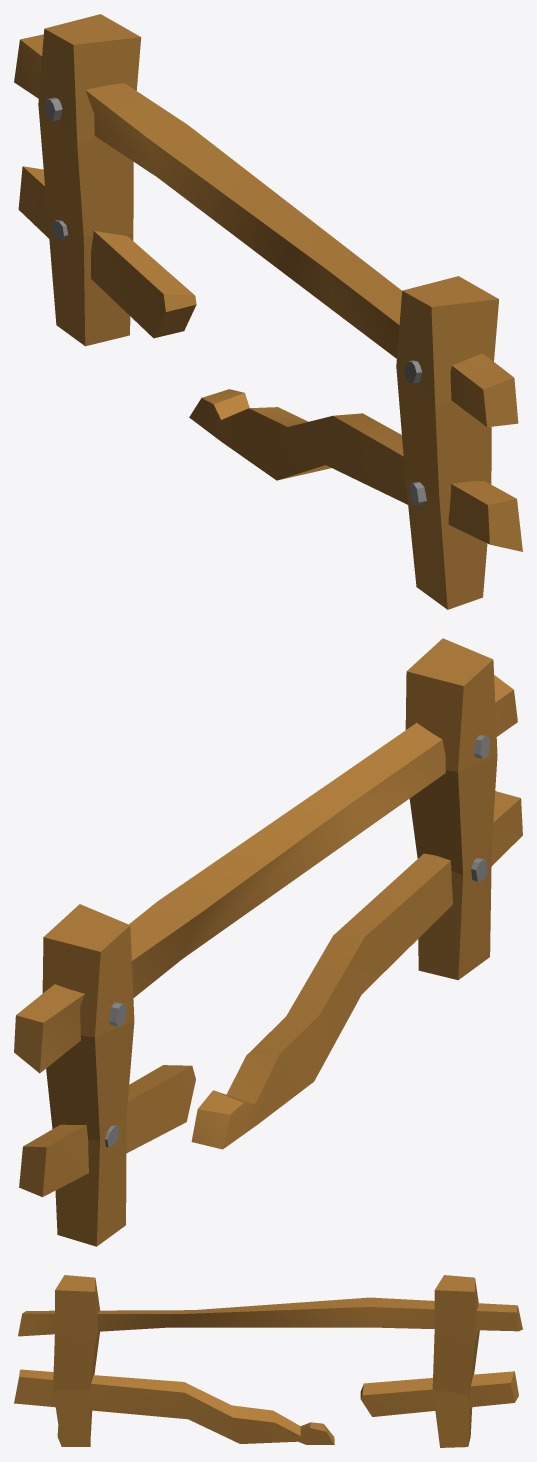
The model's file is Barrière_Cassée_01.fbx.
3 views of the same model, one above another, from view 1: azimuth 30°, elevation 25°; view 2: azimuth 150°, elevation 25°; view 3: azimuth 270°, elevation 25° (orthographic). The views are drawn at different scales.
Visible parts, largest first — view 1: Barrière_Cassée_01; view 2: Barrière_Cassée_01; view 3: Barrière_Cassée_01.
Part boxes in pixels (<box>): Barrière_Cassée_01: <box>14,14,522,609</box>; Barrière_Cassée_01: <box>14,638,522,1246</box>; Barrière_Cassée_01: <box>14,1275,522,1447</box>.
Bounding box in the file's own units: 33.01 × 143 × 415.
Materials: 1 (1 with a texture image).
